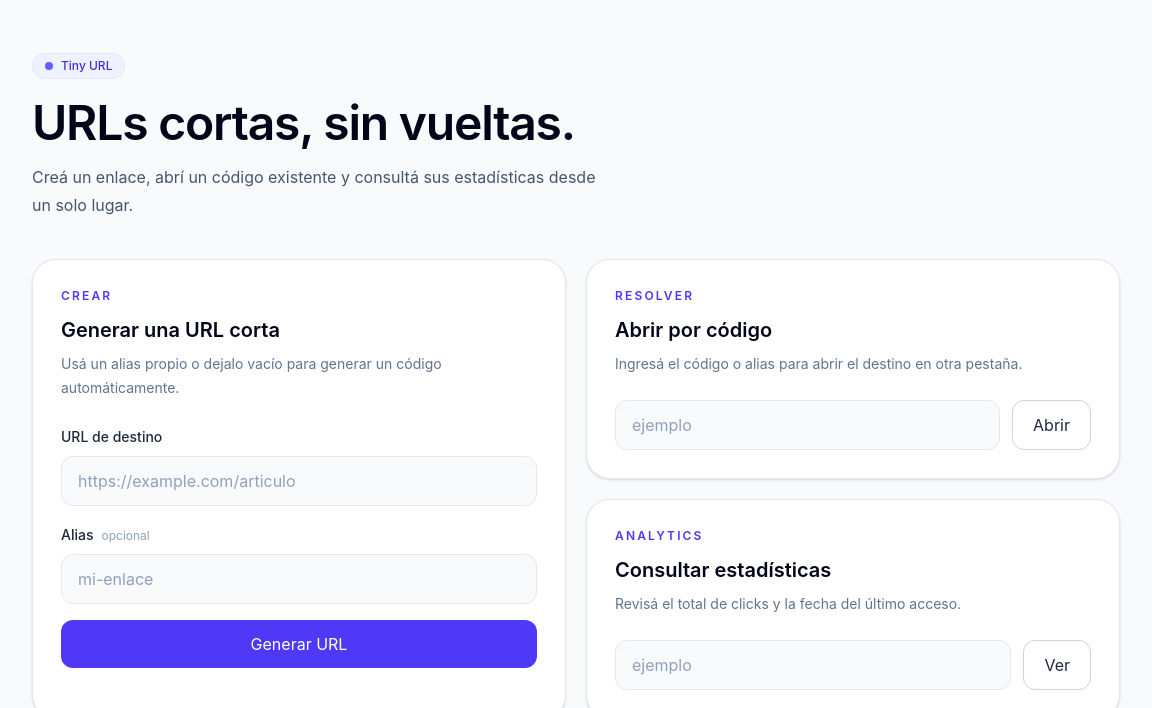
Test: frontend App › creates a short URL and displays the result
Type "https://example.com" into the field labelled "URL de destino".
click(299, 481); type("https://example.com")  # box x1=61 y1=456 x2=537 y2=506
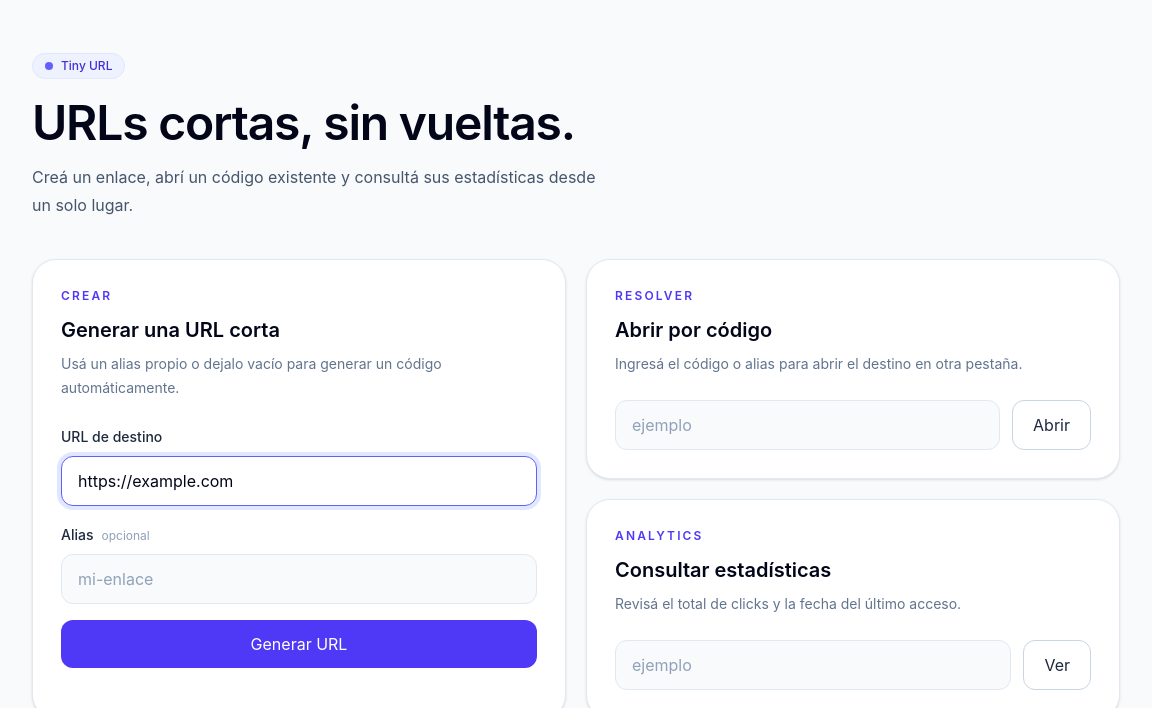
Type "example" into the field labelled "Alias".
click(299, 579); type("example")  # box x1=61 y1=554 x2=537 y2=604
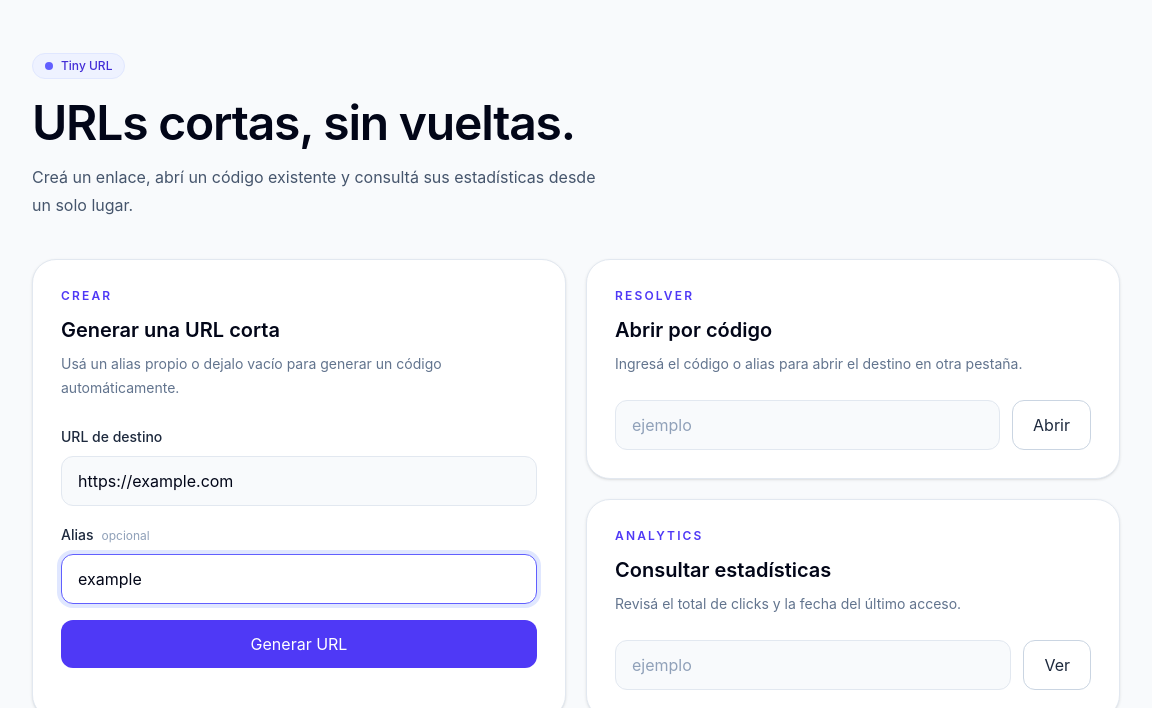
Click the button "Generar URL".
click(299, 644)  # box x1=61 y1=620 x2=537 y2=668
(page scrolled)
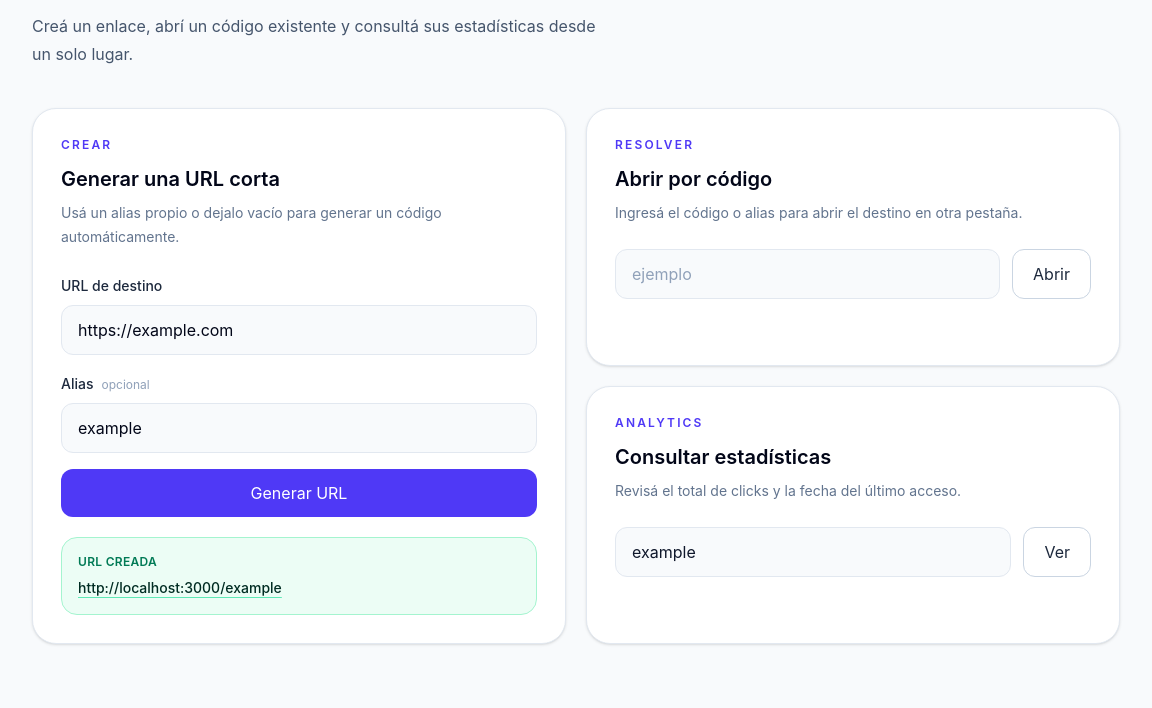
Now the link "http://localhost:3000/example" is shown, box x1=78 y1=579 x2=282 y2=596
